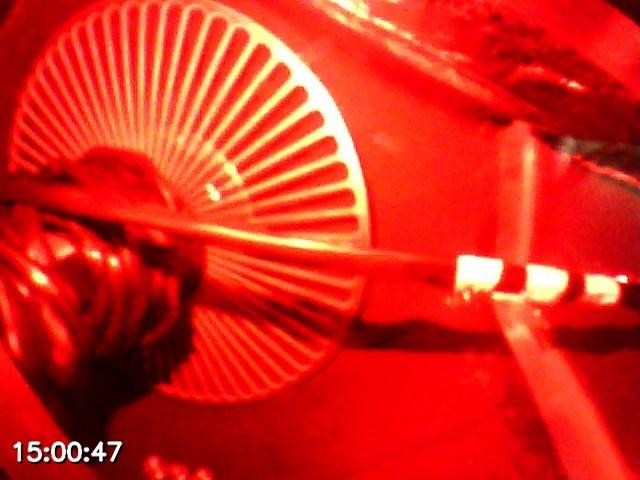white-dots: (454, 254, 621, 309)
